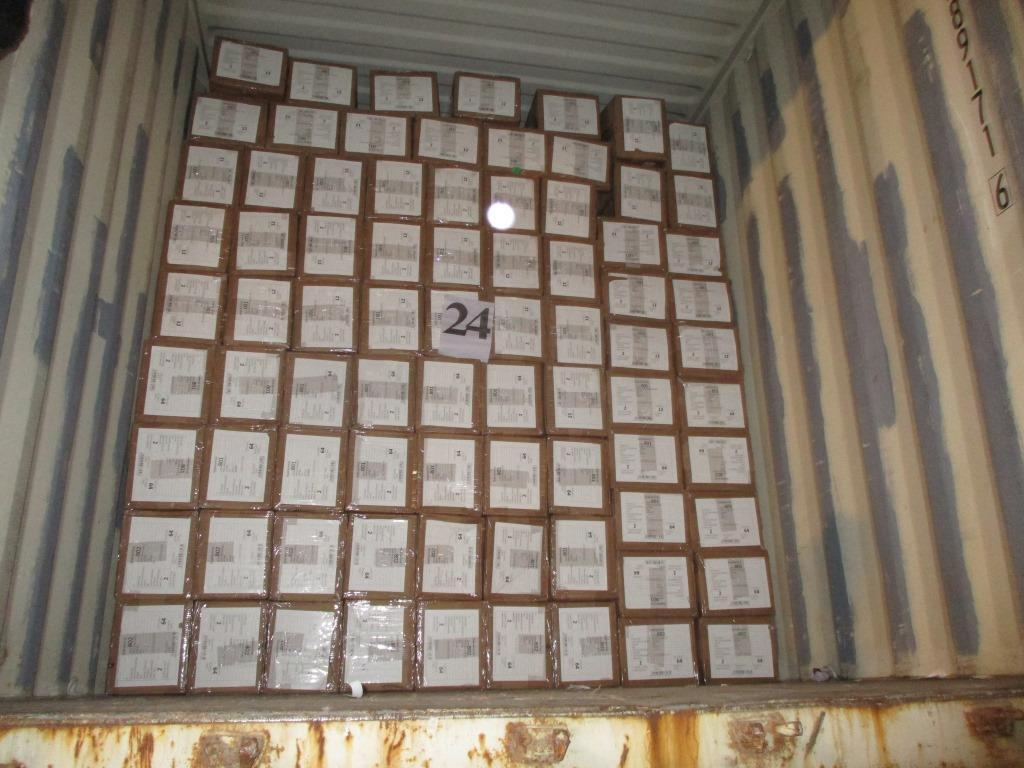carton: (107, 600, 189, 694), (115, 510, 198, 600), (188, 601, 267, 693), (194, 510, 273, 600), (263, 602, 342, 692), (134, 339, 216, 425), (269, 511, 347, 601), (124, 422, 204, 509), (340, 600, 415, 692), (198, 424, 276, 509), (273, 426, 348, 512), (343, 513, 416, 599), (415, 600, 486, 688), (548, 600, 620, 686), (346, 428, 418, 513), (414, 513, 484, 600), (210, 344, 284, 425), (549, 514, 617, 600), (483, 515, 549, 601), (282, 350, 355, 427), (486, 602, 552, 687), (618, 617, 699, 686), (696, 548, 777, 617), (415, 433, 483, 515), (152, 270, 227, 343), (414, 355, 483, 433), (697, 615, 776, 683), (483, 434, 548, 516), (617, 551, 697, 617), (224, 275, 295, 348), (545, 436, 611, 514), (160, 201, 232, 272), (291, 278, 360, 352), (612, 487, 691, 550), (353, 354, 417, 431), (606, 429, 684, 490), (680, 429, 755, 492), (208, 38, 289, 96), (228, 209, 297, 276), (358, 283, 424, 353), (542, 363, 606, 435), (605, 369, 680, 430), (482, 360, 543, 435), (687, 490, 763, 549), (423, 287, 486, 358), (297, 214, 363, 281), (187, 93, 268, 147), (485, 291, 546, 362), (362, 219, 425, 286), (237, 149, 305, 211), (178, 141, 243, 205), (300, 154, 366, 216), (603, 95, 665, 161), (673, 322, 743, 379), (265, 101, 340, 154), (483, 230, 543, 296), (425, 224, 485, 290), (546, 299, 605, 366), (542, 236, 600, 304), (600, 268, 671, 323), (526, 88, 601, 140), (339, 108, 412, 160), (543, 134, 611, 189), (539, 176, 598, 239), (366, 157, 425, 220), (597, 217, 665, 271), (678, 376, 746, 430), (411, 115, 483, 166), (606, 319, 675, 372), (285, 59, 357, 109), (427, 164, 483, 228), (481, 122, 547, 175), (483, 171, 539, 233), (613, 160, 666, 223), (453, 72, 521, 121), (668, 274, 734, 323), (370, 69, 438, 115), (665, 171, 717, 230), (664, 228, 723, 277), (664, 120, 711, 175)
